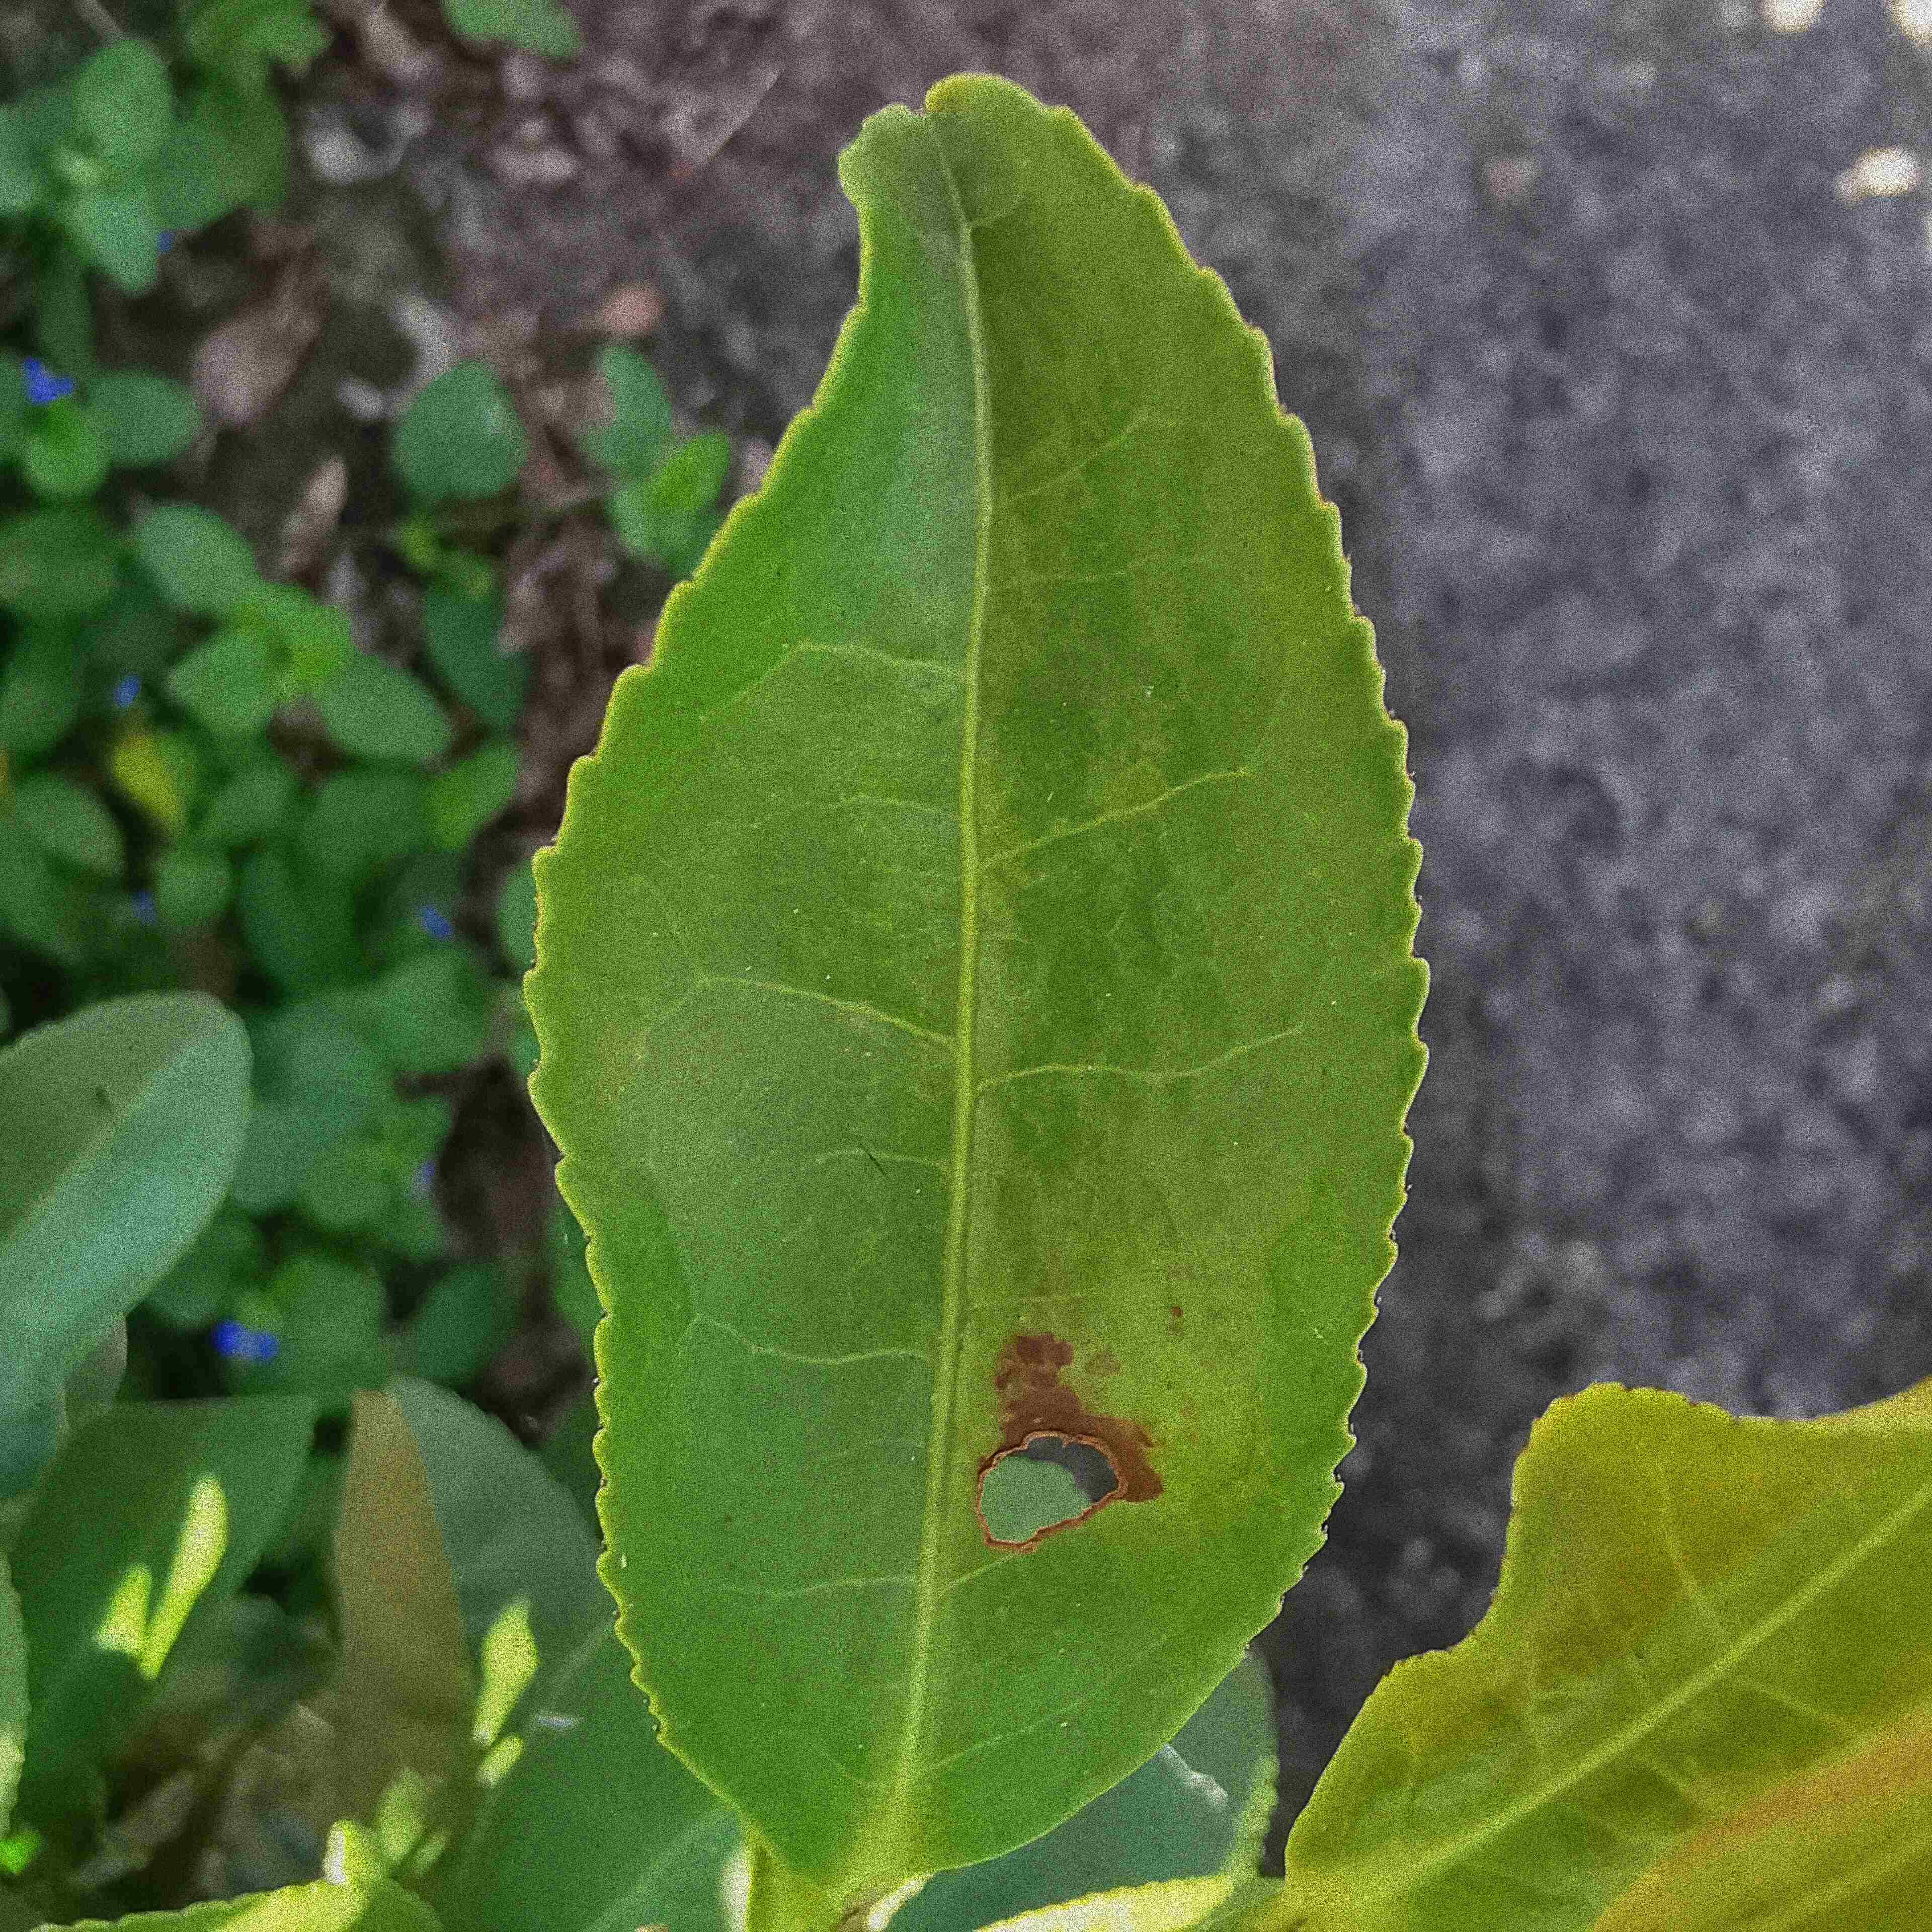chihuo_low: (515, 69, 1433, 1884)
